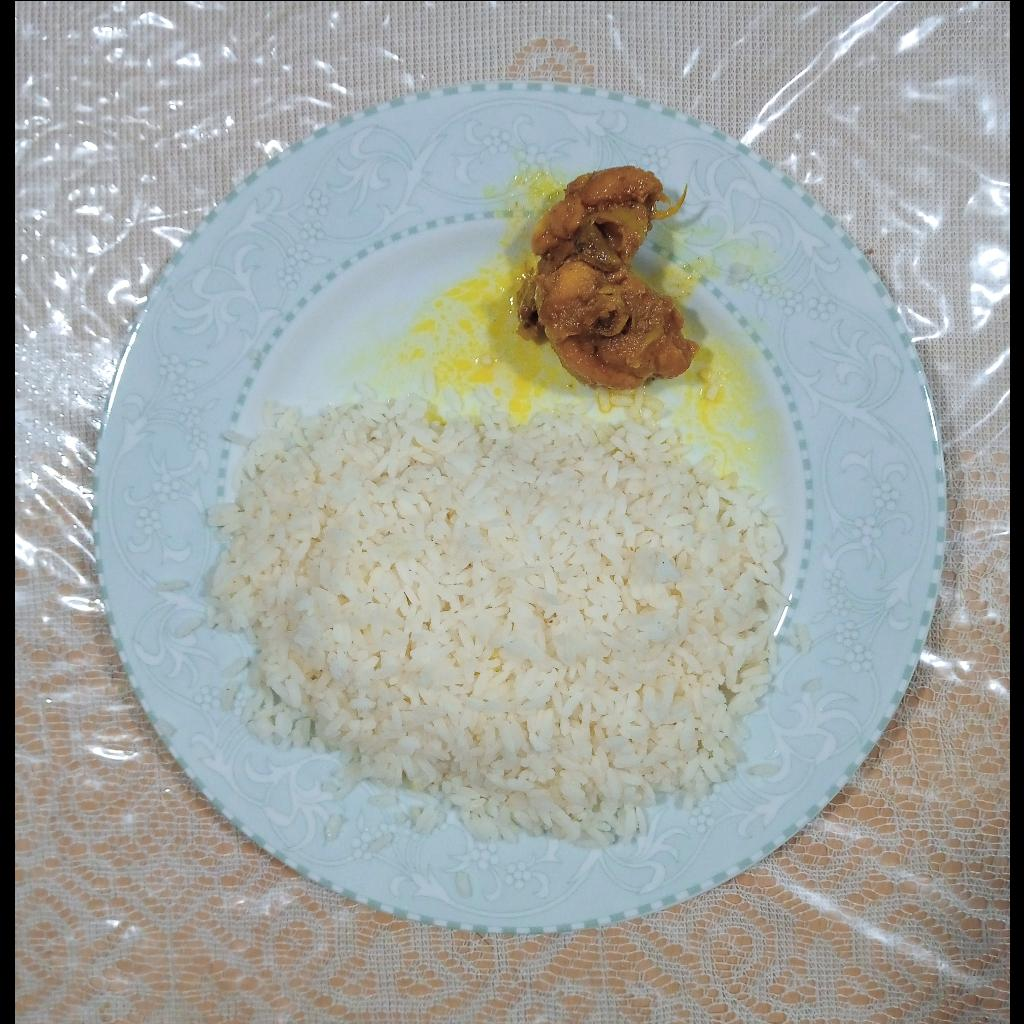chicken: (520, 171, 679, 384)
rice: (220, 404, 792, 862)
